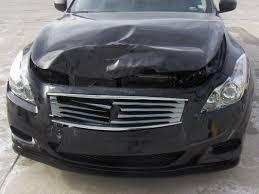bonnet-dent: (46, 11, 216, 74)
front-bumper-dent: (35, 92, 175, 159)
